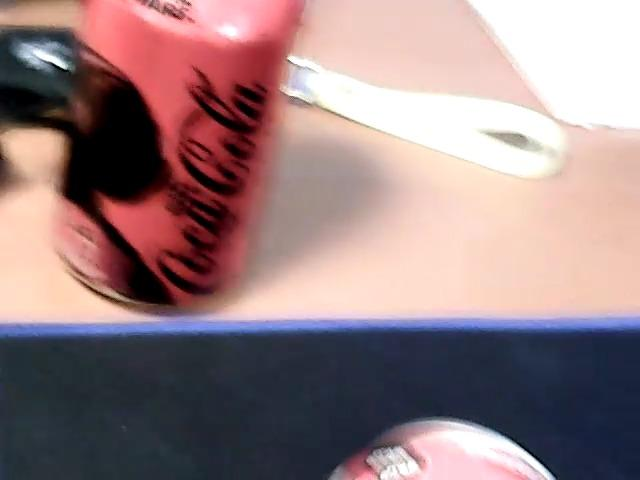coke: (57, 1, 294, 313), (326, 421, 556, 475)
